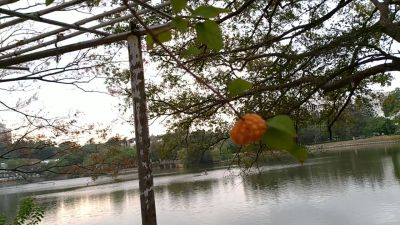eggs: (230, 112, 268, 146)
